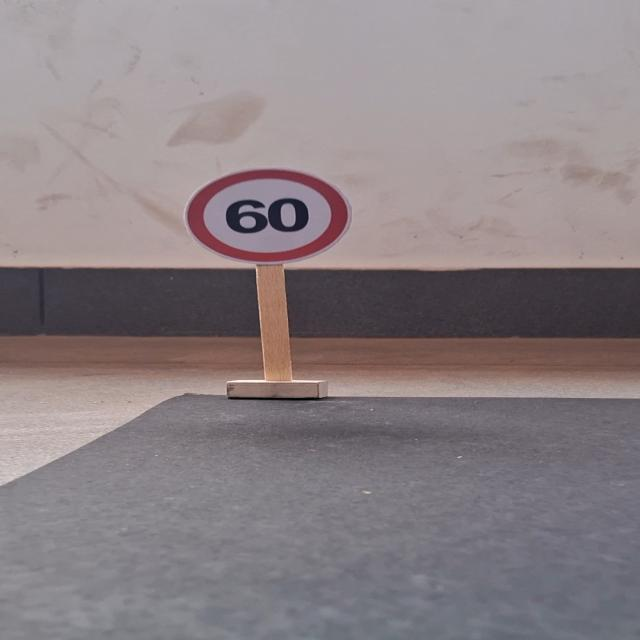Speed60: (186, 166, 348, 266)
